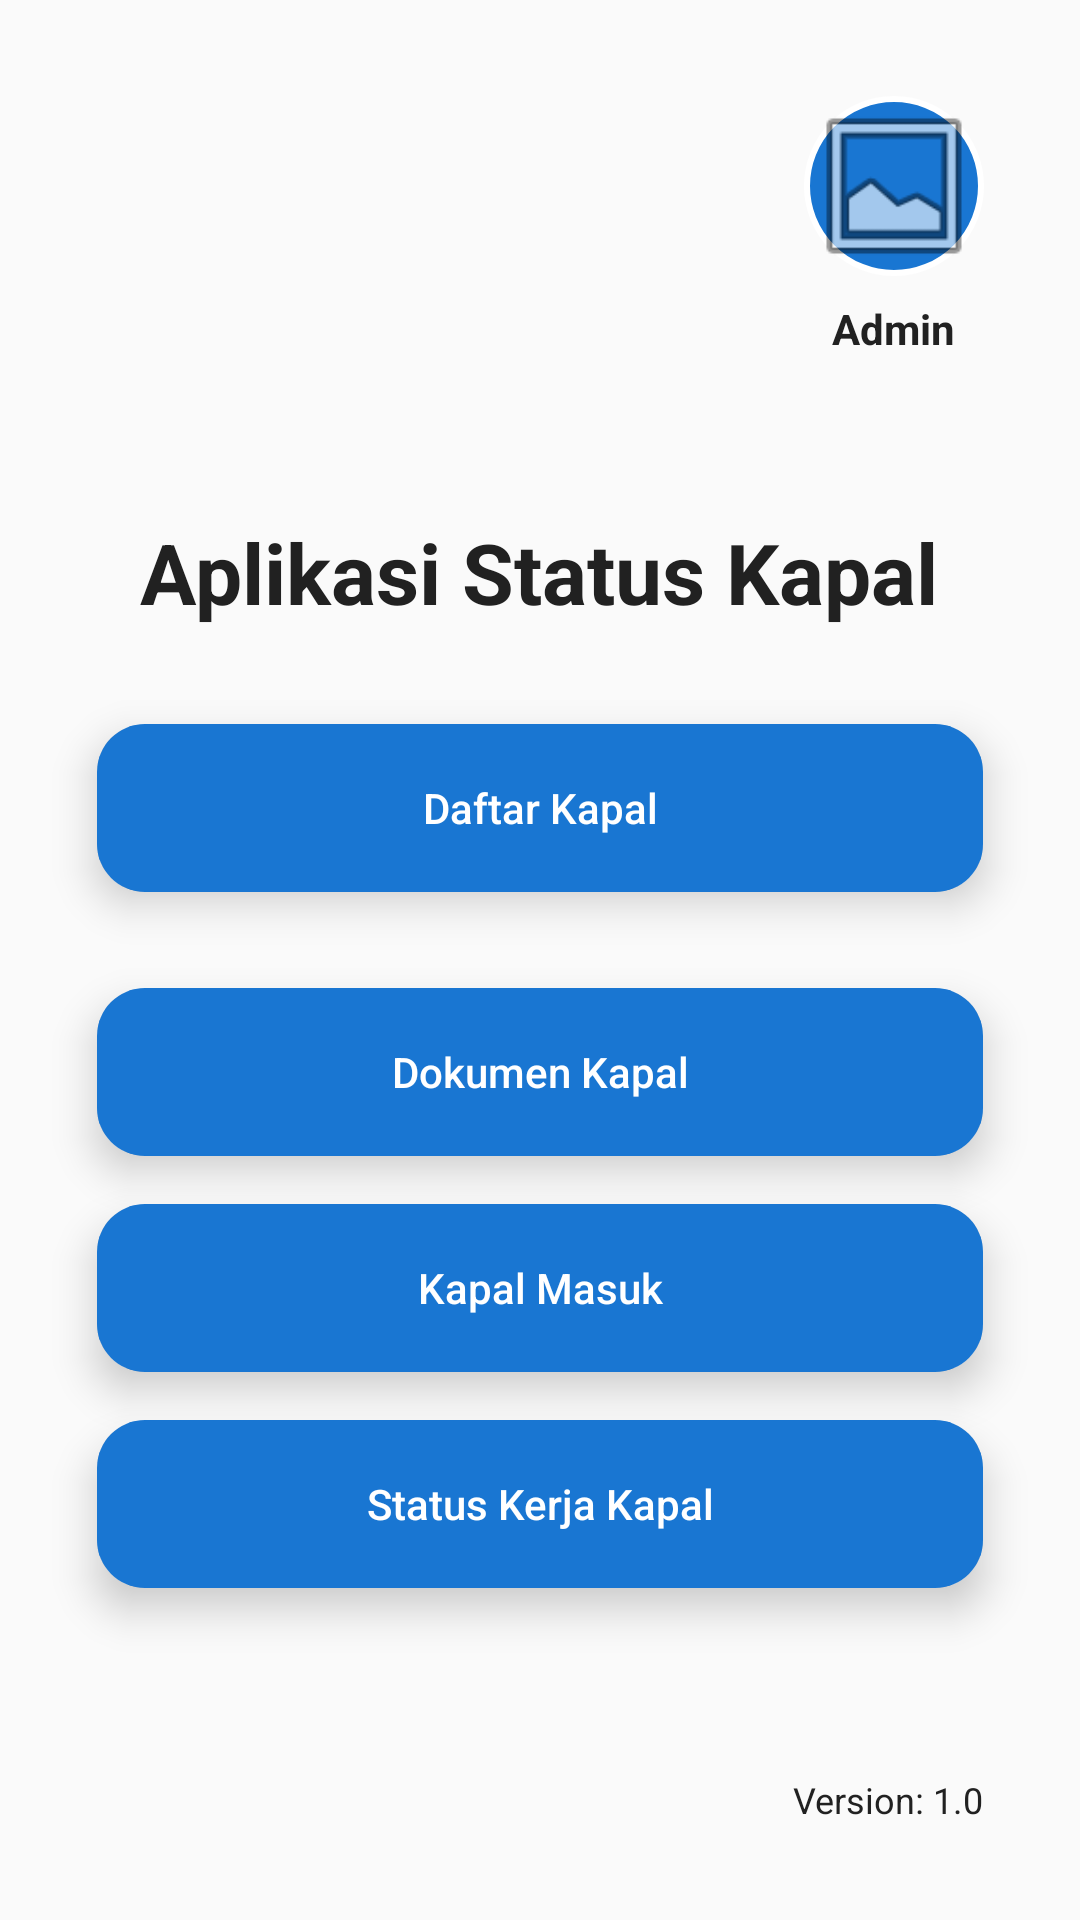

Point at icon controls on the screen. Image size 1080x1920, points as point (x, y).
gallery: point (894, 186)
